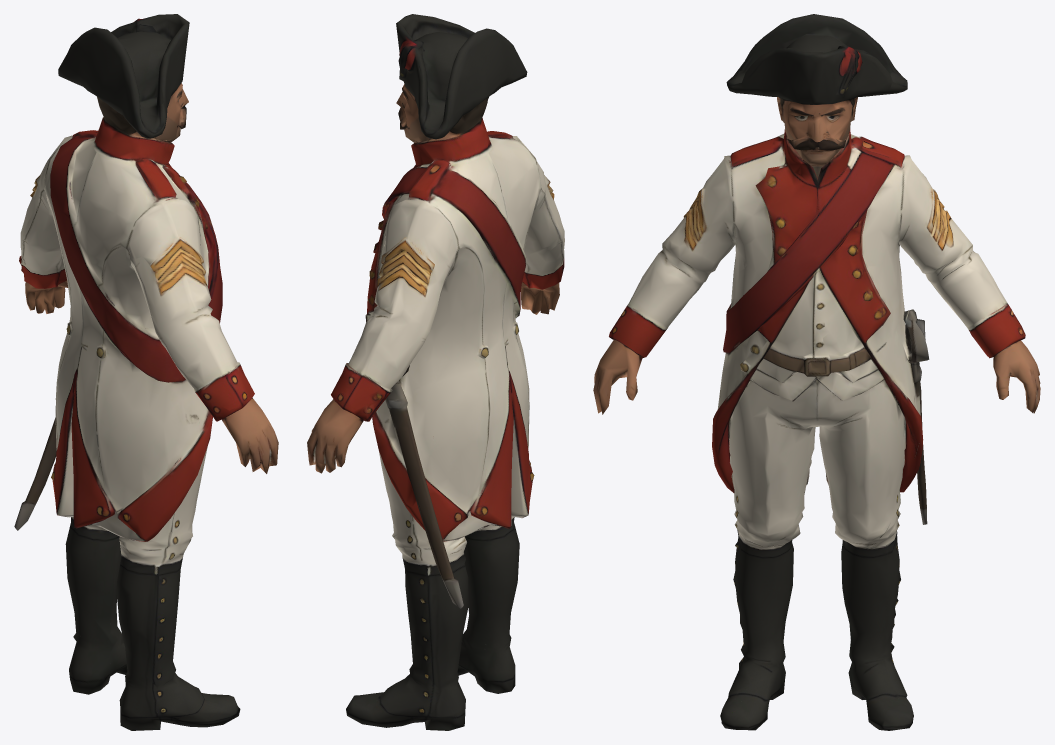
Rendered from 82cb8f26-6239-42c8-8ae5-21b308ae3b01_model_url.glb.
The picture shows the model from 3 angles, left to right: view 1: azimuth 30°, elevation 25°; view 2: azimuth 150°, elevation 25°; view 3: azimuth 270°, elevation 25°; orthographic projection.
Visible parts, largest first — view 1: tripo_node_82cb8f26-6239-42c8-8ae5-21b308ae3b01; view 2: tripo_node_82cb8f26-6239-42c8-8ae5-21b308ae3b01; view 3: tripo_node_82cb8f26-6239-42c8-8ae5-21b308ae3b01.
Boxes of the visible parts, box(x1,y1,x2,y2) form: tripo_node_82cb8f26-6239-42c8-8ae5-21b308ae3b01: box(14, 14, 278, 730); tripo_node_82cb8f26-6239-42c8-8ae5-21b308ae3b01: box(307, 14, 564, 730); tripo_node_82cb8f26-6239-42c8-8ae5-21b308ae3b01: box(593, 14, 1040, 730).
Size of the model in its own units: 0.2251 by 1 by 0.5985.
1 material, 1 textured.
